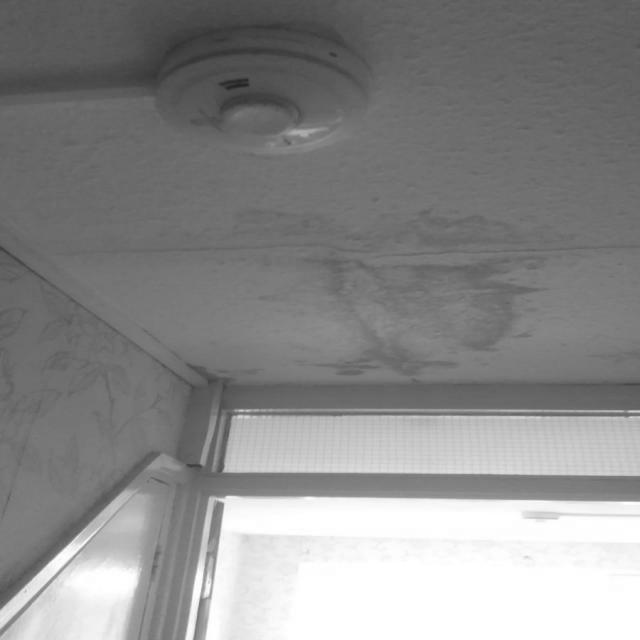stain marks: (228, 188, 588, 386)
